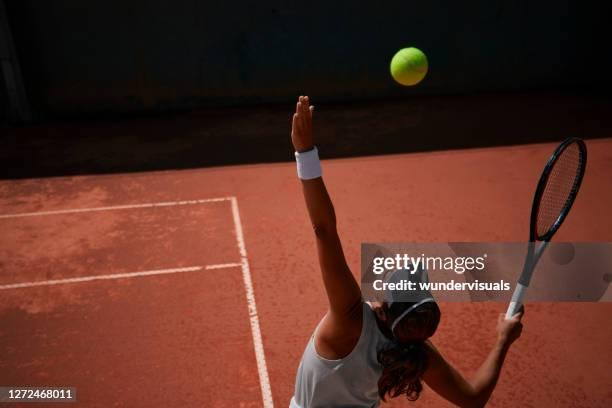ball_tennis: (388, 45, 429, 88)
